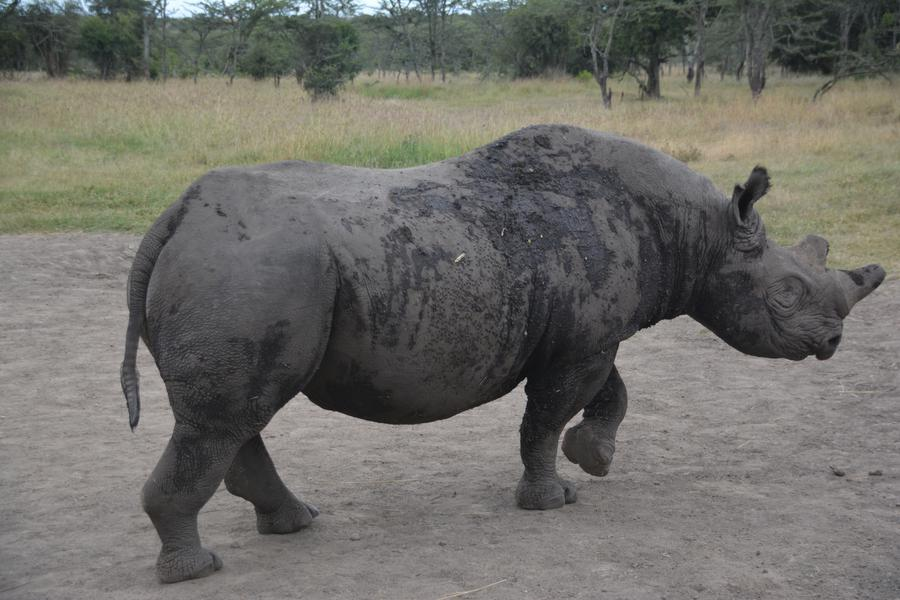rhino: (139, 115, 839, 518)
